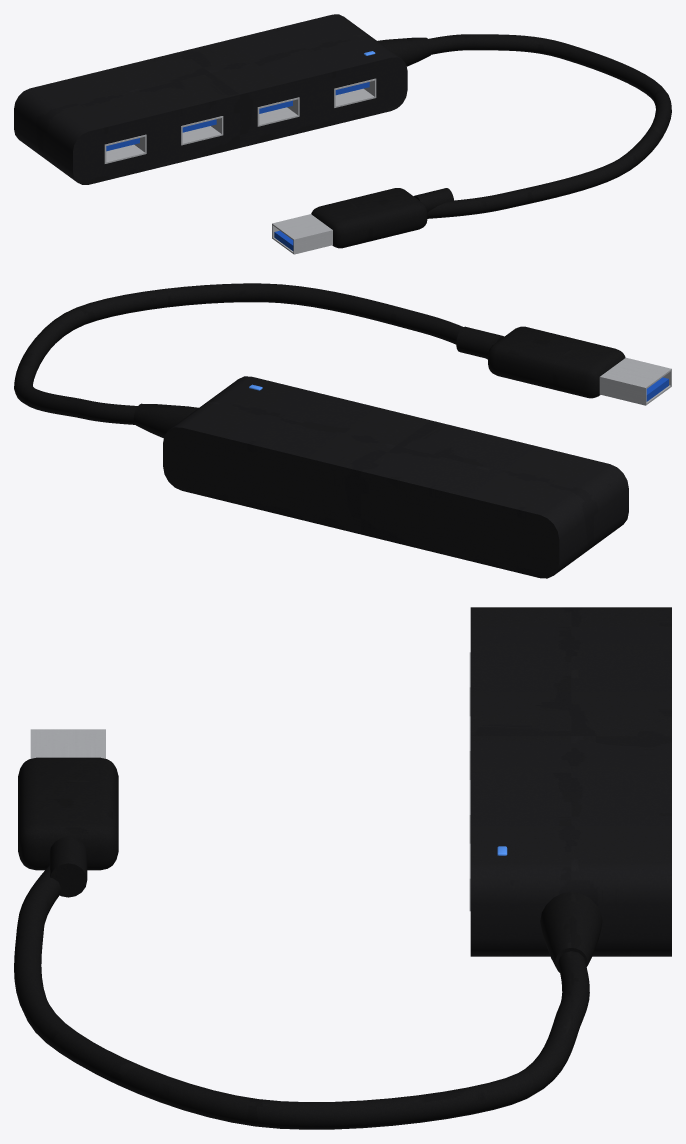
Rendered from crew-usb-hub.glb.
3 renders of one model, top to bottom at view 1: azimuth 30°, elevation 25°; view 2: azimuth 150°, elevation 25°; view 3: azimuth 270°, elevation 25°, orthographic. The views are drawn at different scales.
Visible parts, largest first — view 1: Hub body, Cable, Plug body, Port shells, Plug shell, Port tongues; view 2: Hub body, Cable, Plug body, Plug shell; view 3: Hub body, Cable, Plug body, Plug shell.
Part boxes in pixels (left/top/right/bottom): Hub body: left=14, top=14, right=407, bottom=184; Cable: left=377, top=34, right=671, bottom=218; Plug body: left=311, top=188, right=453, bottom=248; Port shells: left=104, top=78, right=376, bottom=163; Plug shell: left=272, top=214, right=332, bottom=254; Port tongues: left=106, top=82, right=369, bottom=151; Hub body: left=163, top=376, right=628, bottom=578; Cable: left=14, top=283, right=487, bottom=438; Plug body: left=456, top=326, right=625, bottom=398; Plug shell: left=599, top=357, right=671, bottom=405; Hub body: left=470, top=607, right=671, bottom=956; Cable: left=14, top=865, right=602, bottom=1129; Plug body: left=18, top=757, right=118, bottom=897; Plug shell: left=30, top=729, right=105, bottom=758.
Bounding box in the file's own units: 0.1682 × 0.0172 × 0.1046.
Materials: 7 (7 with a texture image).
